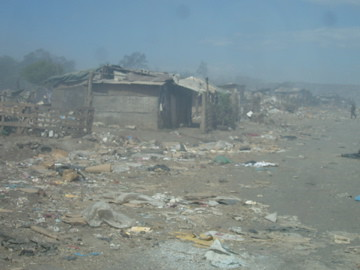building: (44, 54, 226, 137)
sky: (1, 1, 360, 65)
trash: (8, 114, 360, 270)
